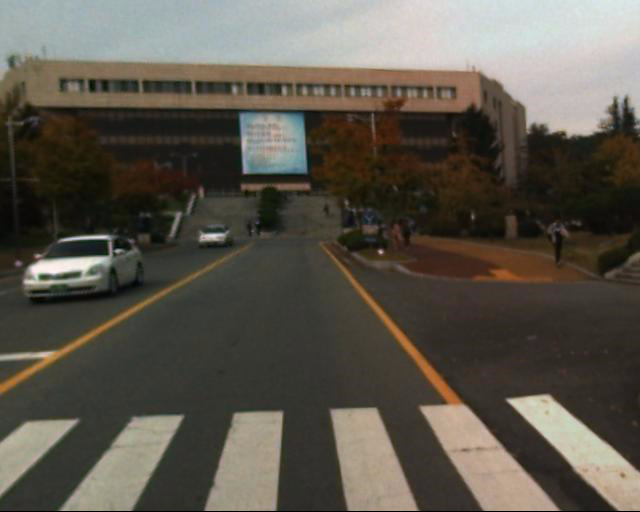person: (547, 222, 567, 263)
